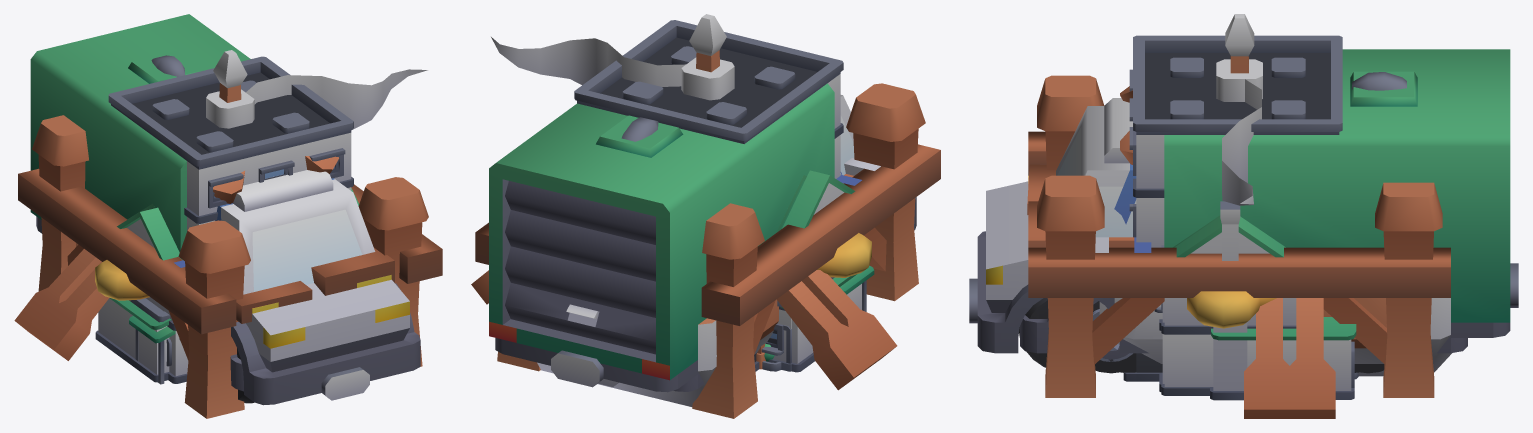
File: market.glb
3 renders of one model, left to right at view 1: azimuth 30°, elevation 25°; view 2: azimuth 150°, elevation 25°; view 3: azimuth 270°, elevation 25°, orthographic. The views are drawn at different scales.
Parts seen in each view (by area): view 1: body (×3), structure-platform-dock-small, building-i, flag-pennant, paddles (×2), building-type-n, building-type-d, wing-right, tail, building-e; view 2: body (×2), structure-platform-dock-small, door, building-i, flag-pennant, paddles (×2), building-type-n, boat-row-large, wing-right, building-type-d, building-e, tail; view 3: body (×2), structure-platform-dock-small, building-i, paddles (×2), building-type-d, flag-pennant, building-e, building-type-n, boat-row-large, wing-left, wheel-front-left (×2), tail (+1 smaller).
Part boxes in pixels (x1,y1,x2,y2): body (×3): (30, 14, 420, 405); structure-platform-dock-small: (18, 115, 442, 418); building-i: (108, 56, 353, 231); flag-pennant: (206, 50, 427, 130); paddles (×2): (14, 249, 109, 360); building-type-n: (117, 207, 188, 384); building-type-d: (95, 188, 359, 382); wing-right: (95, 260, 149, 300); tail: (151, 55, 184, 76); building-e: (129, 298, 171, 365); body (×2): (489, 83, 916, 392); structure-platform-dock-small: (475, 83, 940, 418); door: (505, 181, 655, 354); building-i: (574, 20, 843, 364); flag-pennant: (491, 14, 734, 100); paddles (×2): (471, 270, 897, 390); building-type-n: (762, 170, 874, 371); boat-row-large: (537, 318, 773, 406); wing-right: (817, 233, 871, 277); building-type-d: (767, 274, 861, 372); building-e: (761, 277, 834, 371); tail: (621, 117, 658, 141); body (×2): (969, 49, 1518, 353); structure-platform-dock-small: (1027, 75, 1450, 397); building-i: (1129, 35, 1342, 381); paddles (×2): (1244, 298, 1335, 418); building-type-d: (1159, 201, 1285, 400); flag-pennant: (1216, 14, 1262, 205); building-e: (1154, 245, 1296, 395); building-type-n: (1211, 317, 1356, 399); boat-row-large: (1099, 298, 1451, 376); wing-left: (1187, 291, 1276, 328); wheel-front-left (×2): (1019, 298, 1136, 373); tail: (1352, 72, 1406, 90).
Size of the model in its own units: 2.94 by 2.15 by 3.25.
